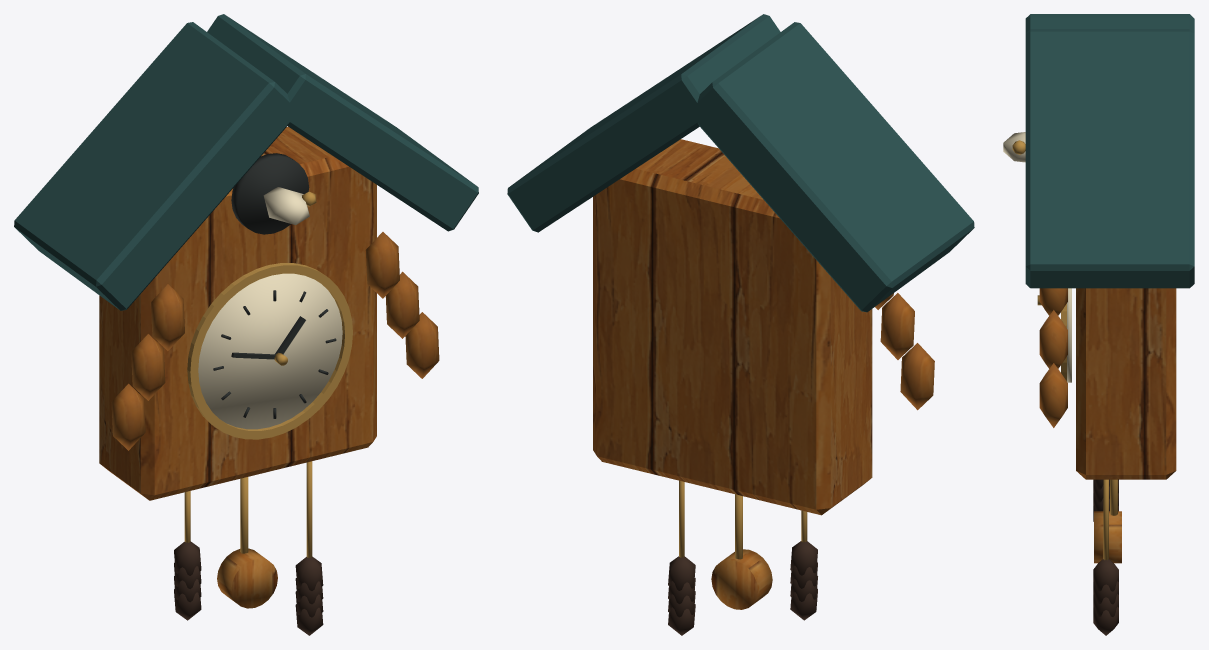
The picture shows the model from 3 angles, left to right: view 1: azimuth 30°, elevation 25°; view 2: azimuth 150°, elevation 25°; view 3: azimuth 270°, elevation 25°; orthographic projection. The views are drawn at different scales.
Parts seen in each view (by area): view 1: clockshop_walnut, clockshop_teal, clockshop_ivory, clockshop_brass, clockshop_ink, clockshop_darkwood; view 2: clockshop_walnut, clockshop_teal, clockshop_darkwood, clockshop_brass; view 3: clockshop_teal, clockshop_walnut, clockshop_darkwood, clockshop_brass, clockshop_ivory.
Boxes of the visible parts, box(x1,y1,x2,y2) form: clockshop_walnut: box(99, 126, 439, 608); clockshop_teal: box(14, 14, 478, 310); clockshop_ivory: box(198, 187, 342, 429); clockshop_brass: box(184, 191, 352, 558); clockshop_ink: box(213, 153, 336, 418); clockshop_darkwood: box(174, 541, 323, 635); clockshop_walnut: box(593, 139, 934, 609); clockshop_teal: box(507, 14, 974, 312); clockshop_darkwood: box(668, 541, 817, 635); clockshop_brass: box(679, 480, 807, 559); clockshop_teal: box(1025, 14, 1194, 288); clockshop_walnut: box(1039, 288, 1176, 563); clockshop_darkwood: box(1093, 479, 1118, 635); clockshop_brass: box(1012, 140, 1117, 560); clockshop_ivory: box(1003, 132, 1071, 382).
Bounding box in the file's own units: 1.07 × 1.6 × 0.4752.
Materials: 6 (1 with a texture image).
